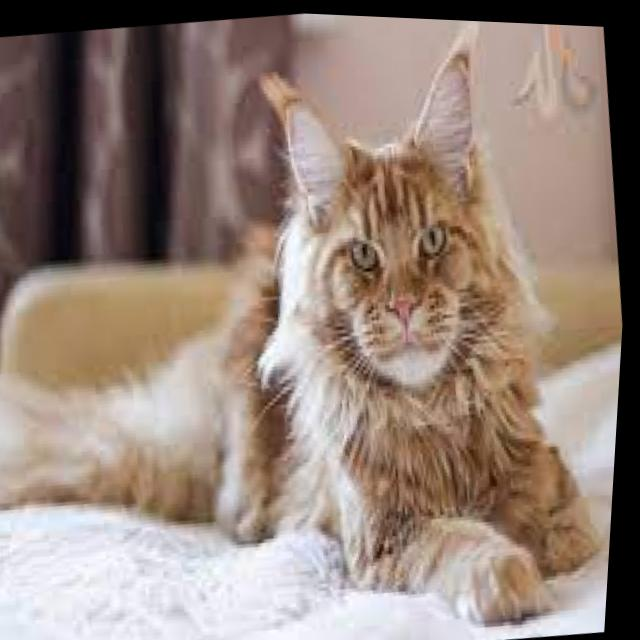cat: (197, 22, 626, 611)
